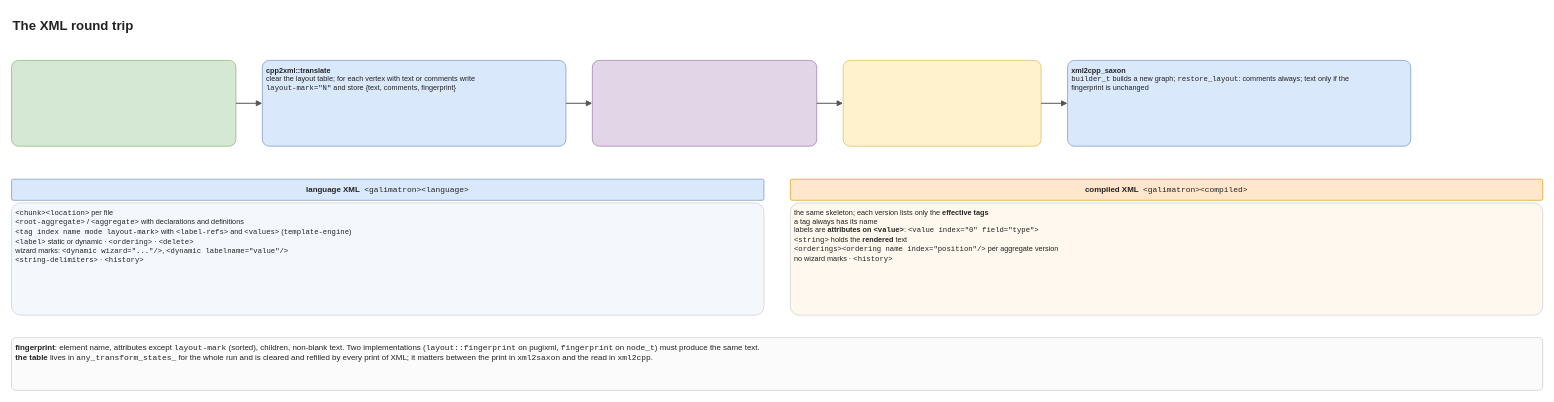
This 1554x402 diagram has some shape labels left out. The shapes that lost their labels are listed below. From the top down, each one's box as (x1, y1, x2, y2) in pixels, then its label:
(11, 60, 236, 146): language_part_t vertices keep user_formatting and user_comments
(592, 60, 817, 146): language XML printed, then parsed into Saxon by xml2saxon
(842, 60, 1041, 146): your xslt changes, adds, deletes
